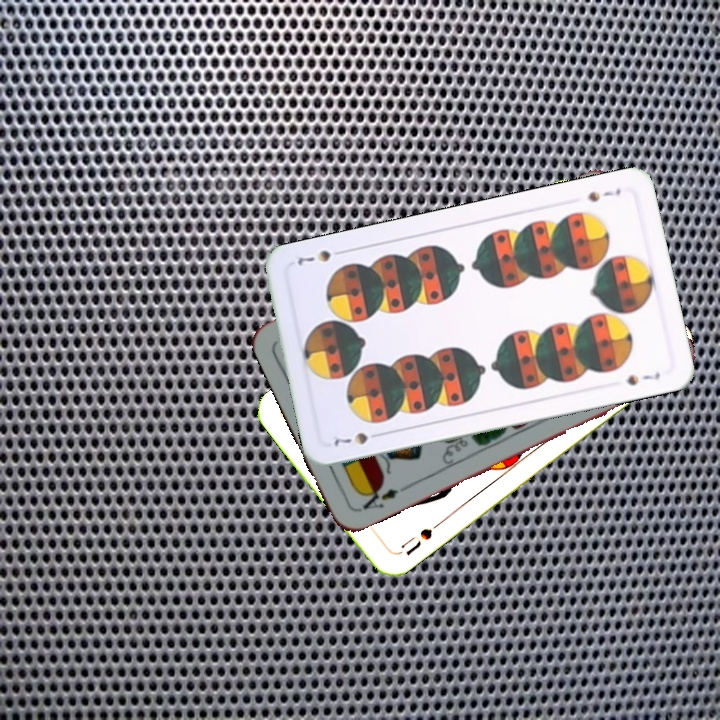EA: (357, 481, 411, 512)
S7: (329, 428, 385, 449), (584, 184, 624, 205)
SU: (388, 524, 435, 559)
